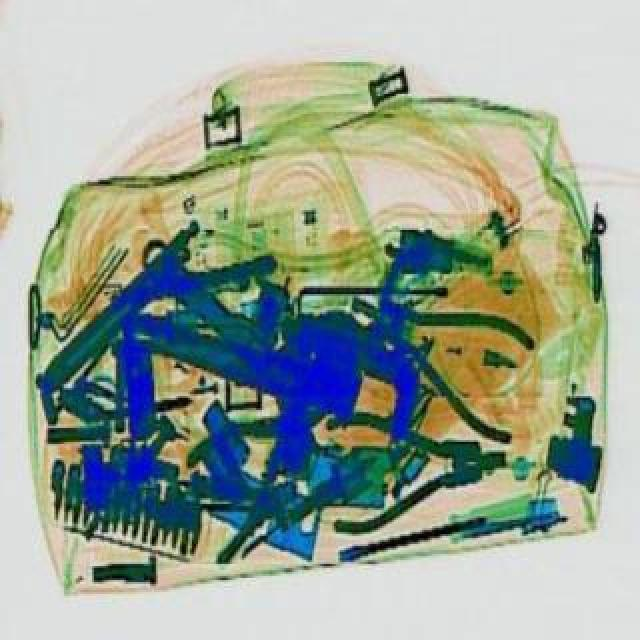scissors: (120, 218, 354, 434)
wrench: (322, 252, 566, 444), (140, 358, 360, 564), (318, 394, 522, 532)
